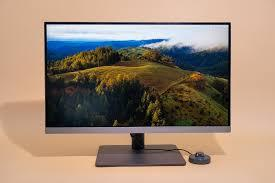monitor: (42, 19, 235, 138)
